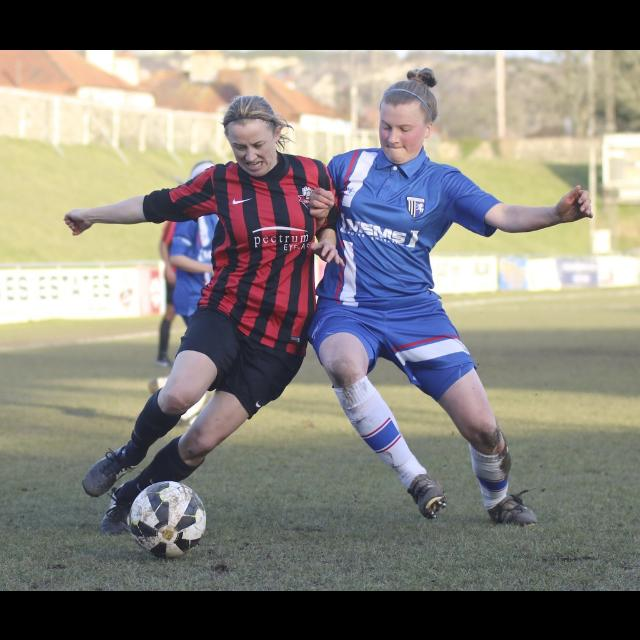Football: (128, 478, 206, 554)
